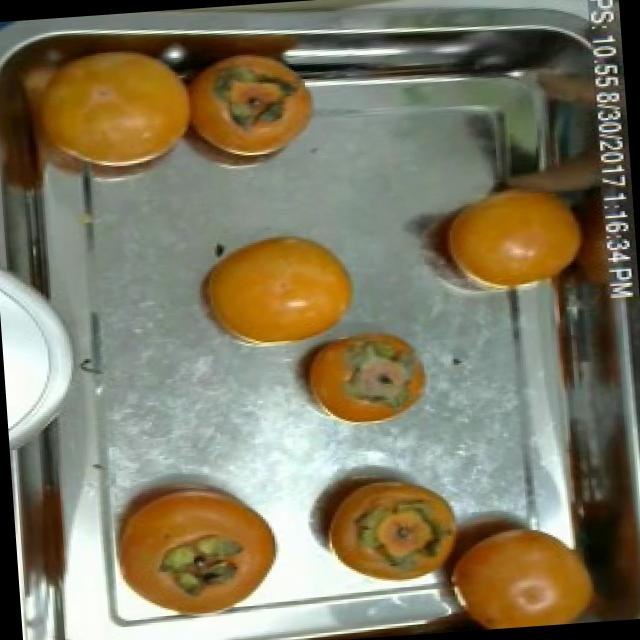Fruit: (3, 36, 215, 216), (80, 461, 296, 621), (416, 166, 600, 308), (182, 219, 366, 357), (428, 504, 612, 632), (304, 458, 472, 592), (284, 324, 442, 440)
